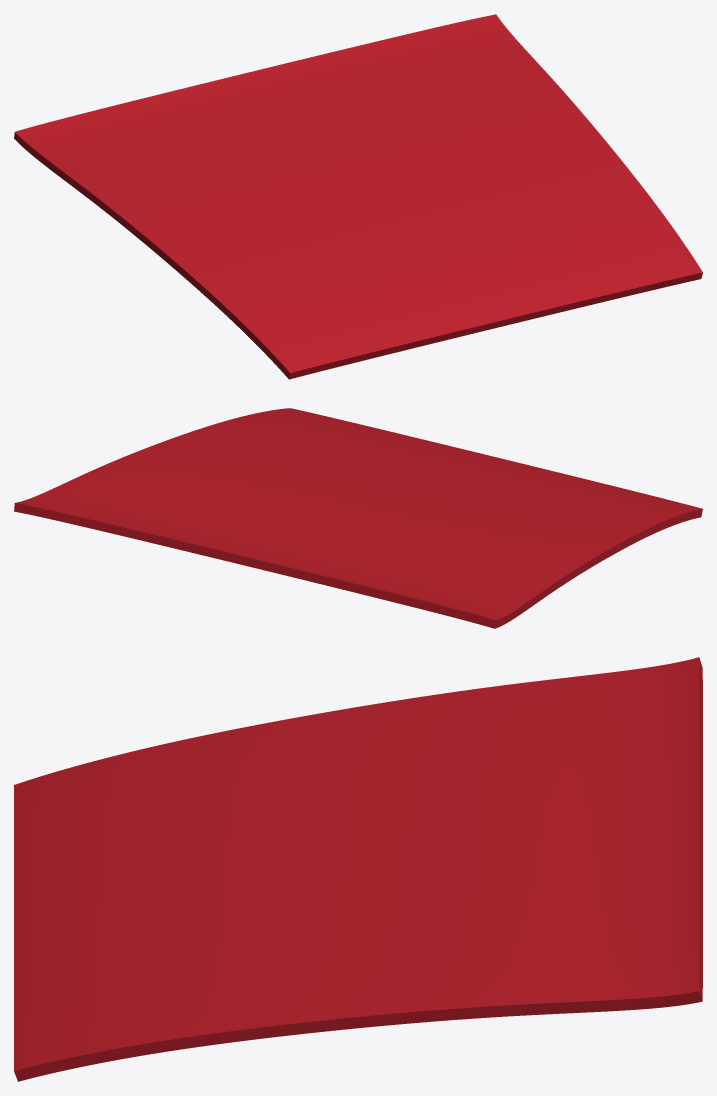
The model's file is hood.glb.
3 views of the same model, one above another, from view 1: azimuth 30°, elevation 25°; view 2: azimuth 150°, elevation 25°; view 3: azimuth 270°, elevation 25° (orthographic). The views are drawn at different scales.
Parts seen in each view (by area): view 1: hood; view 2: hood; view 3: hood.
Boxes of the visible parts, bbox=[...] form: hood: bbox=[14, 14, 702, 379]; hood: bbox=[14, 408, 702, 628]; hood: bbox=[14, 657, 702, 1081].
Size of the model in its own units: 1.39 by 0.2294 by 1.21.
